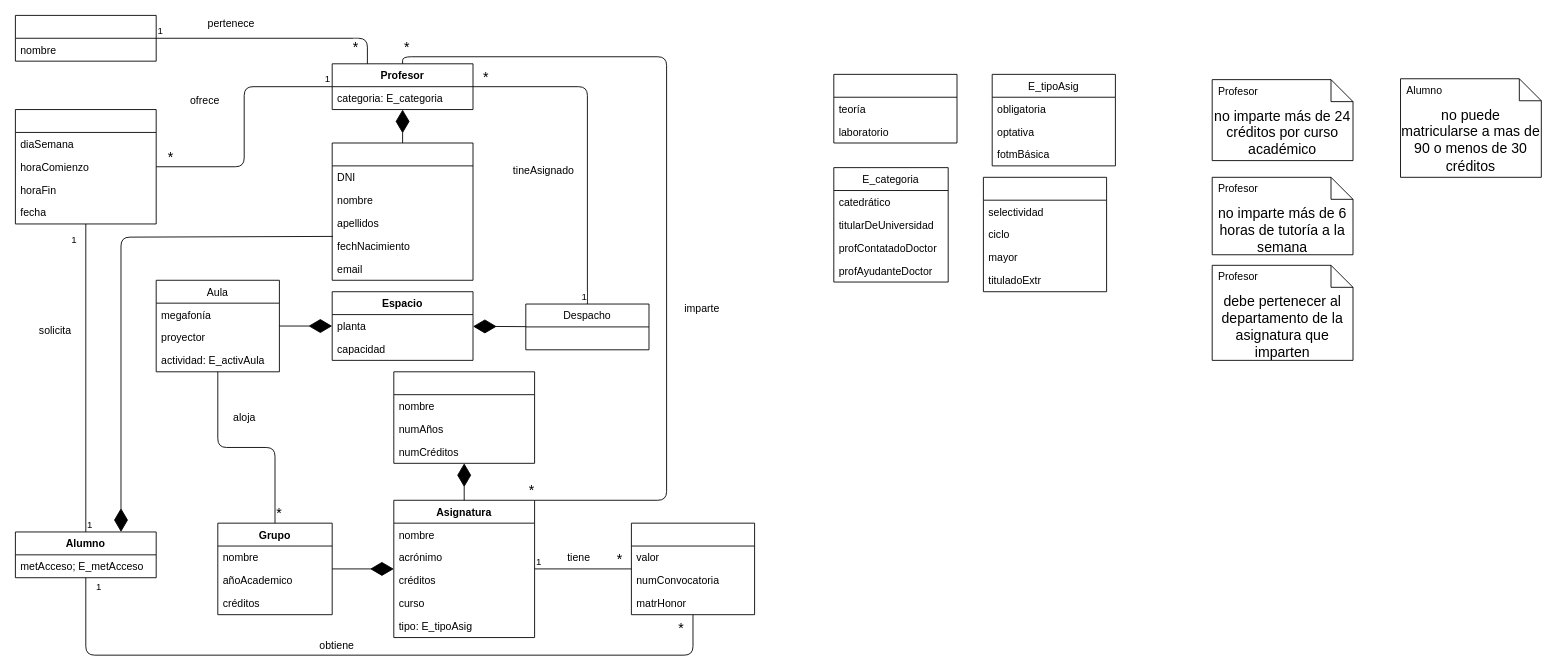
Image size: 1557x671. Some labels were removed from this diagram. Here are the shapes that lost their labels. From the top down, the box of each, then its label:
(15, 15, 156, 61): Departamento
(833, 73, 957, 143): E_activAula
(15, 109, 156, 224): Tutoria
(331, 142, 473, 280): Persona
(983, 176, 1107, 292): E_metAcceso
(393, 371, 535, 463): Grado
(631, 522, 755, 615): Nota
